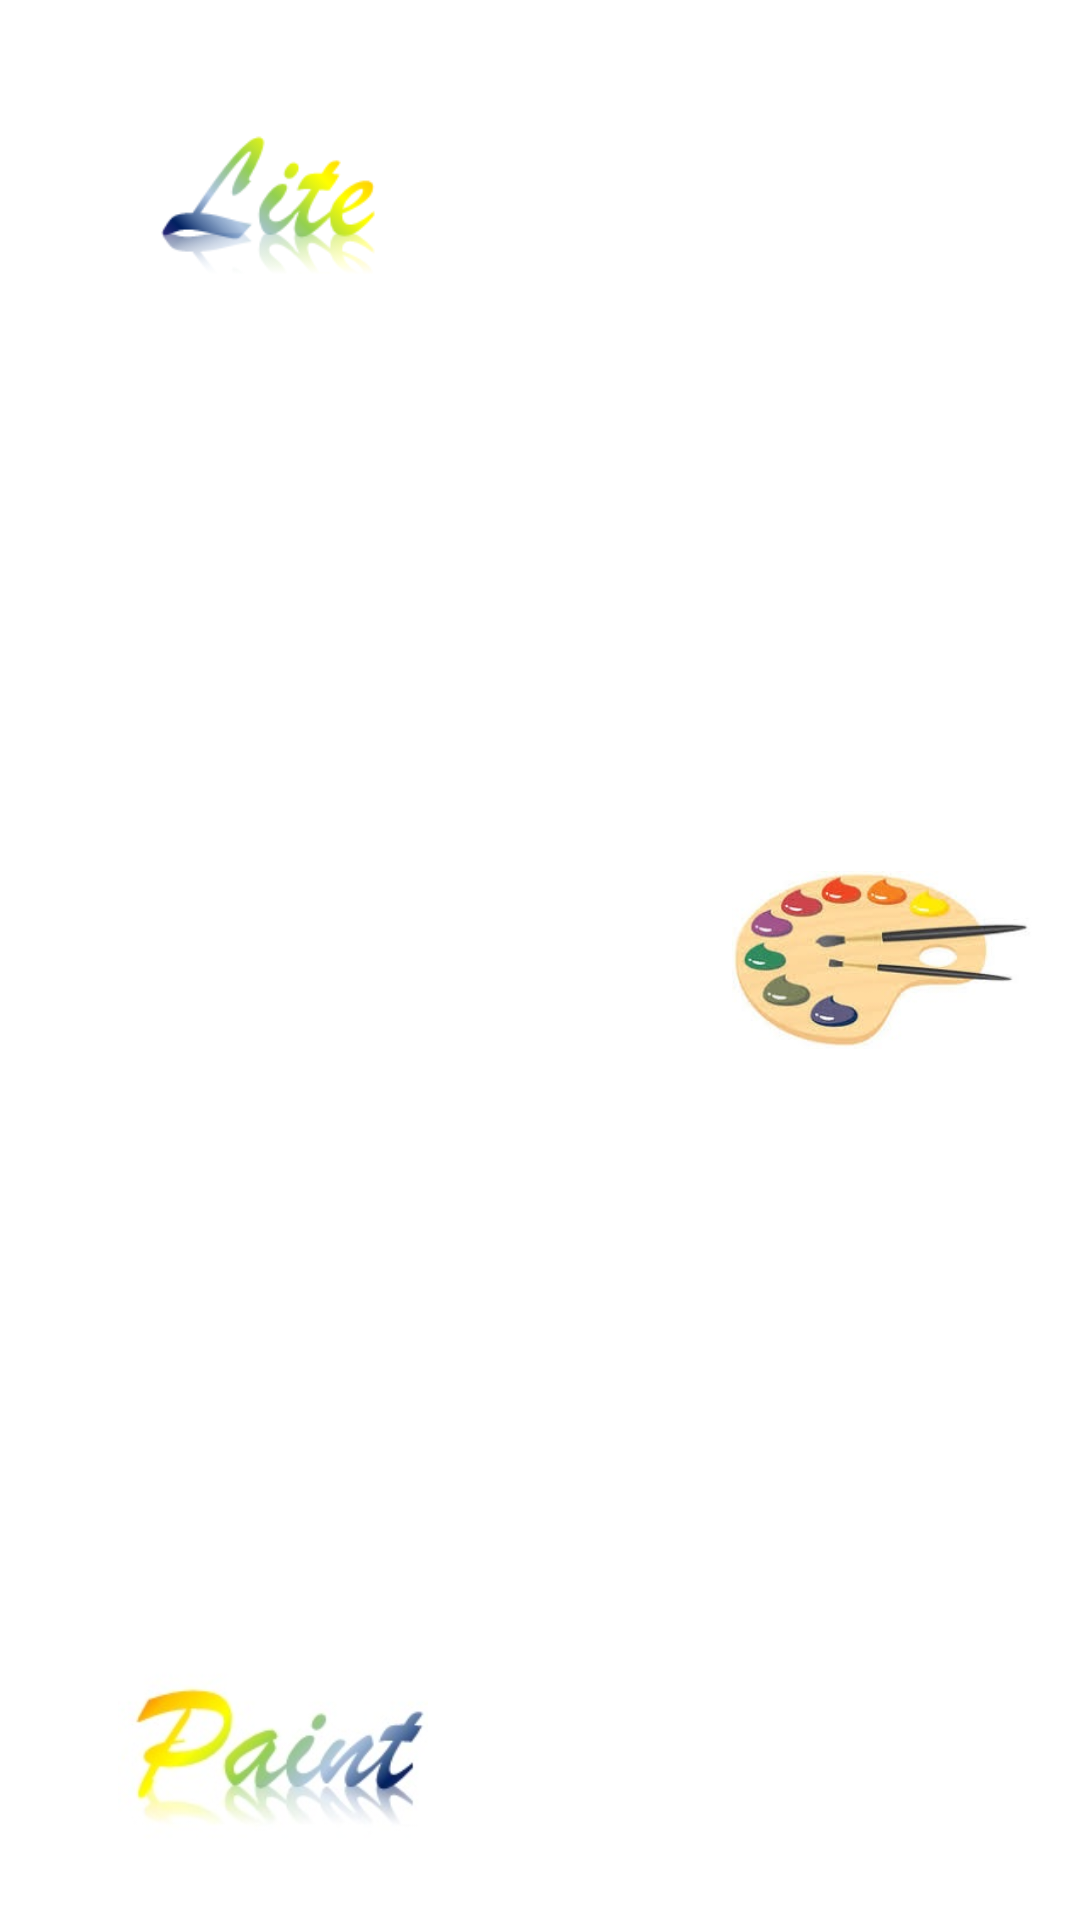

Point at icon controls on the screen. Image size 1080 x 1920, points as point (x, y).
paint palette: point (881, 960)
